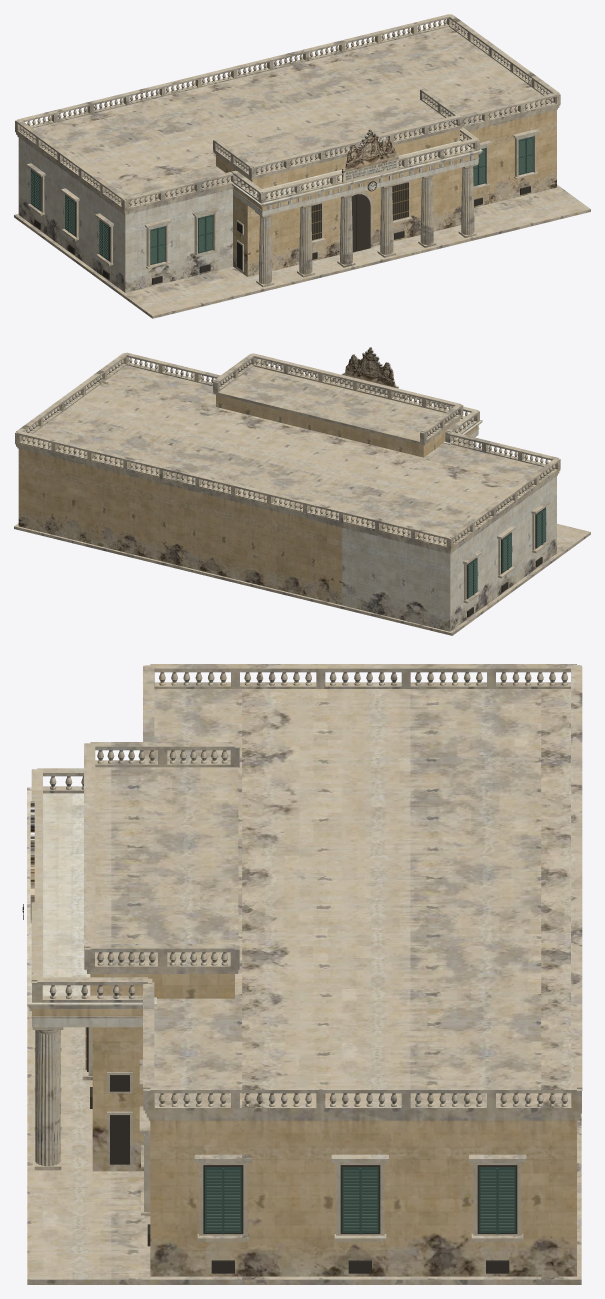
Rendered from mainguard-Dgp41SwP.glb.
3 renders of one model, top to bottom at view 1: azimuth 30°, elevation 25°; view 2: azimuth 150°, elevation 25°; view 3: azimuth 270°, elevation 25°, orthographic. The views are drawn at different scales.
Visible parts, largest first — view 1: Foundation, Masonry, Masonry.001, Fluted tapered shaft, Shutter leaves.004, Louvre.080, Vent, Inscription and carved achievement, Arched timber door leaf, Iron grille; view 2: Foundation, Masonry.001, Masonry, Inscription and carved achievement, Shutter leaves.004, Louvre.080, Vent; view 3: Foundation, Masonry.001, Masonry, Shutter leaves.004, Louvre.080, Vent, Fluted tapered shaft.
Boxes of the visible parts, x1=… form: Foundation: x1=14, y1=14, x2=590, y2=318; Masonry: x1=18, y1=135, x2=482, y2=292; Masonry.001: x1=216, y1=110, x2=556, y2=276; Fluted tapered shaft: x1=259, y1=167, x2=474, y2=284; Shutter leaves.004: x1=31, y1=136, x2=533, y2=264; Louvre.080: x1=30, y1=138, x2=532, y2=263; Vent: x1=31, y1=148, x2=530, y2=284; Inscription and carved achievement: x1=342, y1=129, x2=398, y2=183; Arched timber door leaf: x1=351, y1=194, x2=370, y2=252; Iron grille: x1=311, y1=183, x2=409, y2=240; Foundation: x1=14, y1=352, x2=590, y2=635; Masonry.001: x1=18, y1=394, x2=478, y2=605; Masonry: x1=342, y1=419, x2=556, y2=631; Inscription and carved achievement: x1=342, y1=347, x2=398, y2=397; Shutter leaves.004: x1=468, y1=508, x2=545, y2=597; Louvre.080: x1=468, y1=510, x2=546, y2=596; Vent: x1=466, y1=507, x2=545, y2=617; Foundation: x1=27, y1=664, x2=582, y2=1284; Masonry.001: x1=32, y1=974, x2=576, y2=1276; Masonry: x1=27, y1=787, x2=156, y2=1027; Shutter leaves.004: x1=205, y1=1167, x2=515, y2=1234; Louvre.080: x1=206, y1=1170, x2=514, y2=1230; Vent: x1=22, y1=904, x2=517, y2=1273; Fluted tapered shaft: x1=35, y1=1030, x2=60, y2=1166.
Bounding box in the file's own units: 32.68 × 9.54 × 17.96.
Materials: 11 (5 with a texture image).
